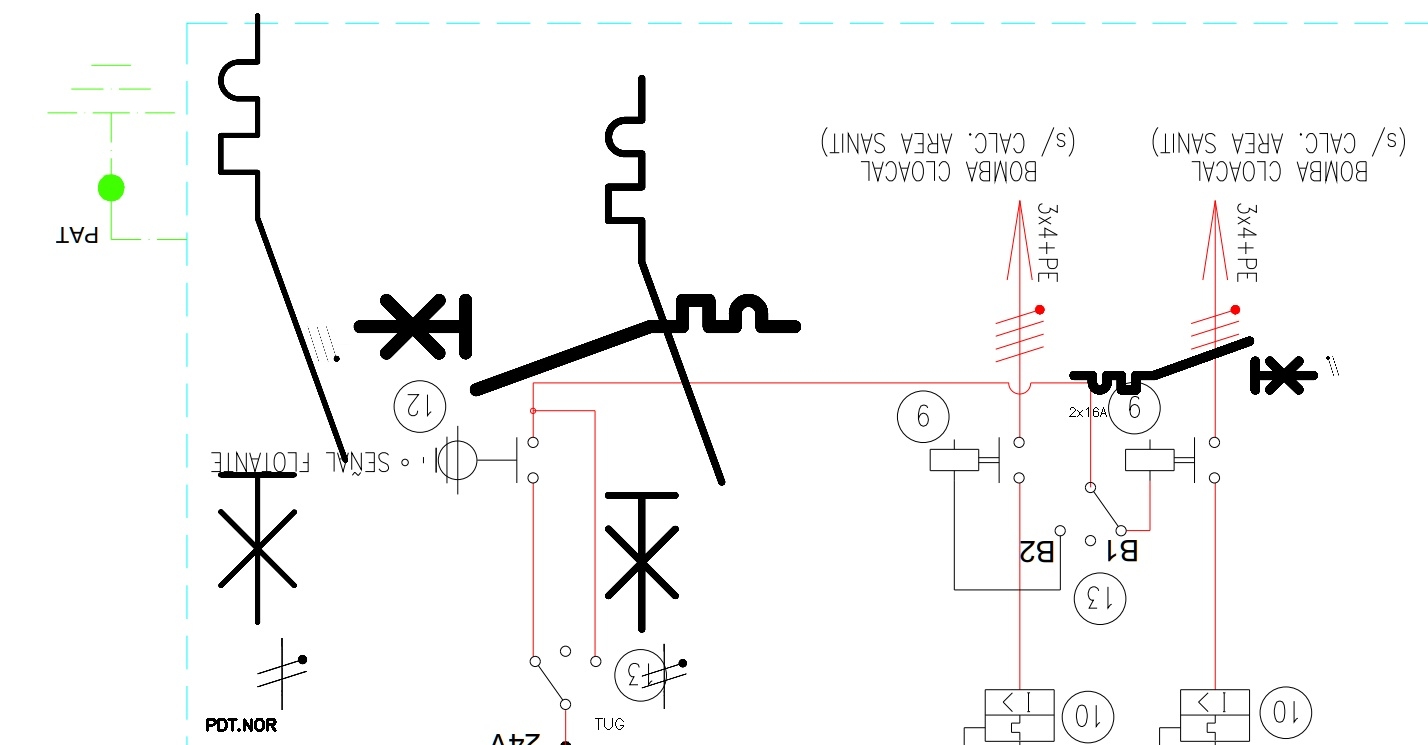interruptor_termomagnetico: (205, 0, 361, 637), (594, 64, 736, 643), (348, 289, 805, 401), (1068, 335, 1319, 396)
